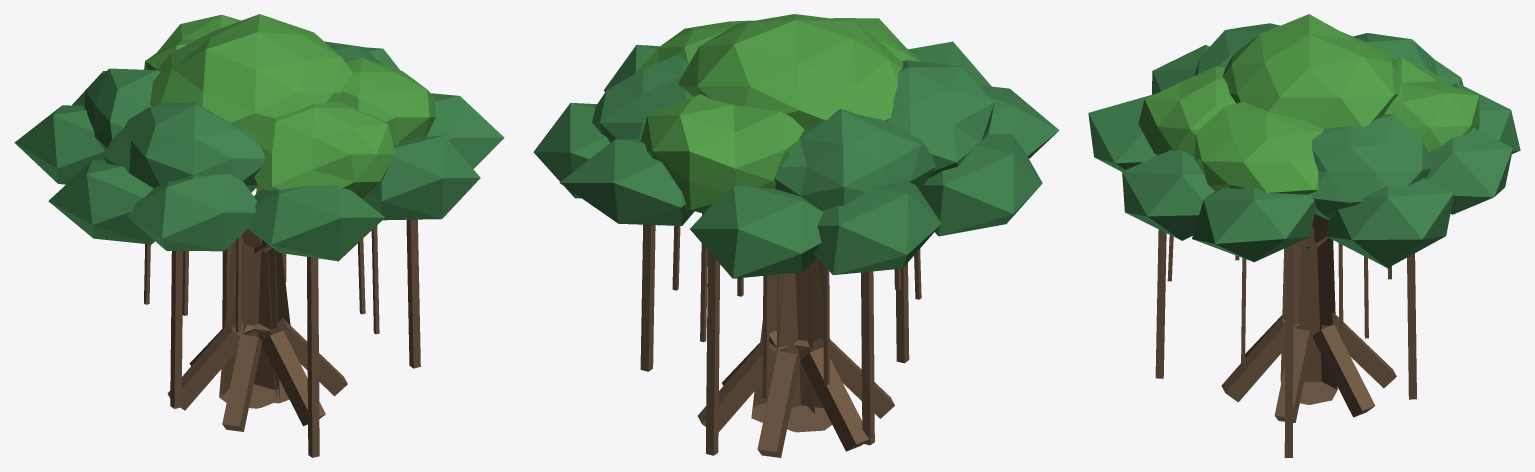
The model's file is viet_tree_banyan.glb.
3 views of the same model, side by side, from view 1: azimuth 30°, elevation 25°; view 2: azimuth 150°, elevation 25°; view 3: azimuth 270°, elevation 25° (orthographic). The views are drawn at different scales.
Visible parts, largest first — view 1: viet_tree_banyan; view 2: viet_tree_banyan; view 3: viet_tree_banyan.
Boxes of the visible parts, <box> form: viet_tree_banyan: <box>14,14,504,457</box>; viet_tree_banyan: <box>533,14,1059,457</box>; viet_tree_banyan: <box>1088,14,1520,457</box>.
Size of the model in its own units: 1 by 0.8729 by 0.9558.
